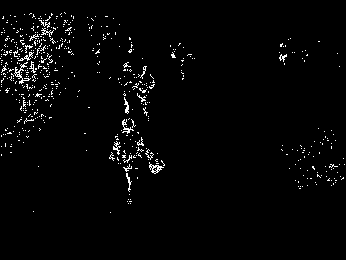person: (107, 116, 166, 196), (133, 64, 155, 119)
